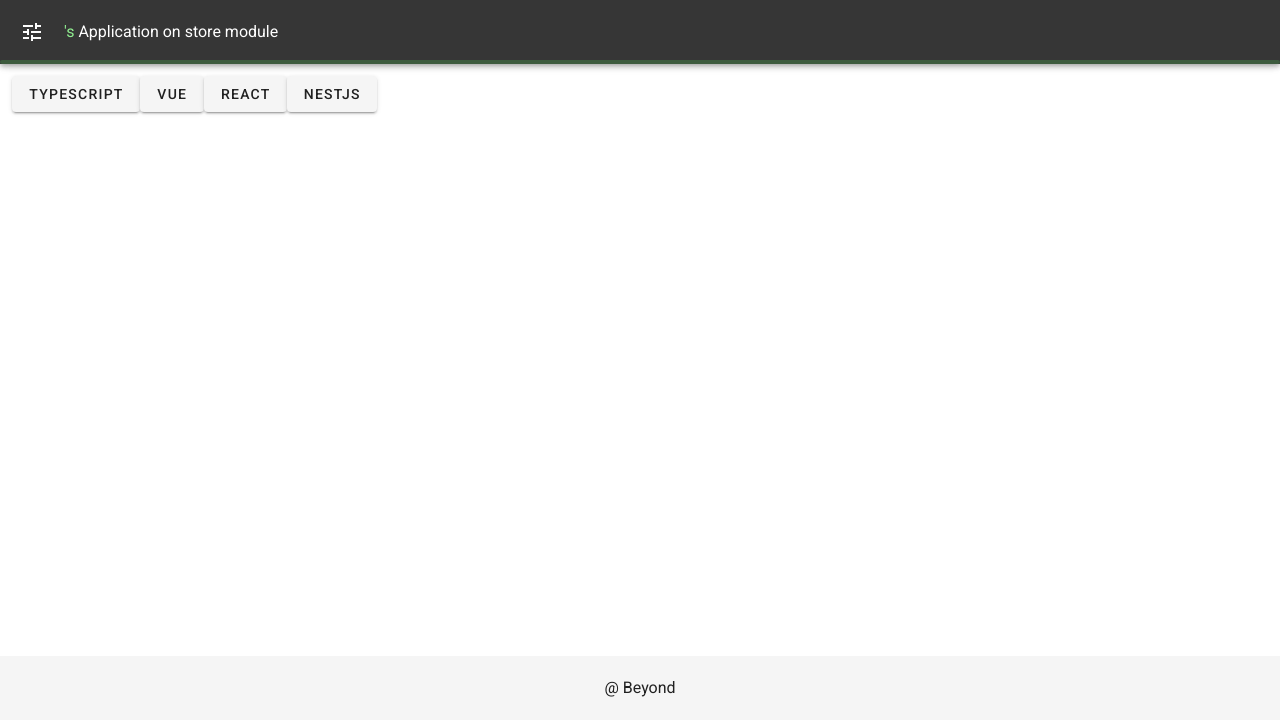
Test: commands-and › command as test
Click the button "TypeScript" at (76,94), box [12, 76, 140, 112]
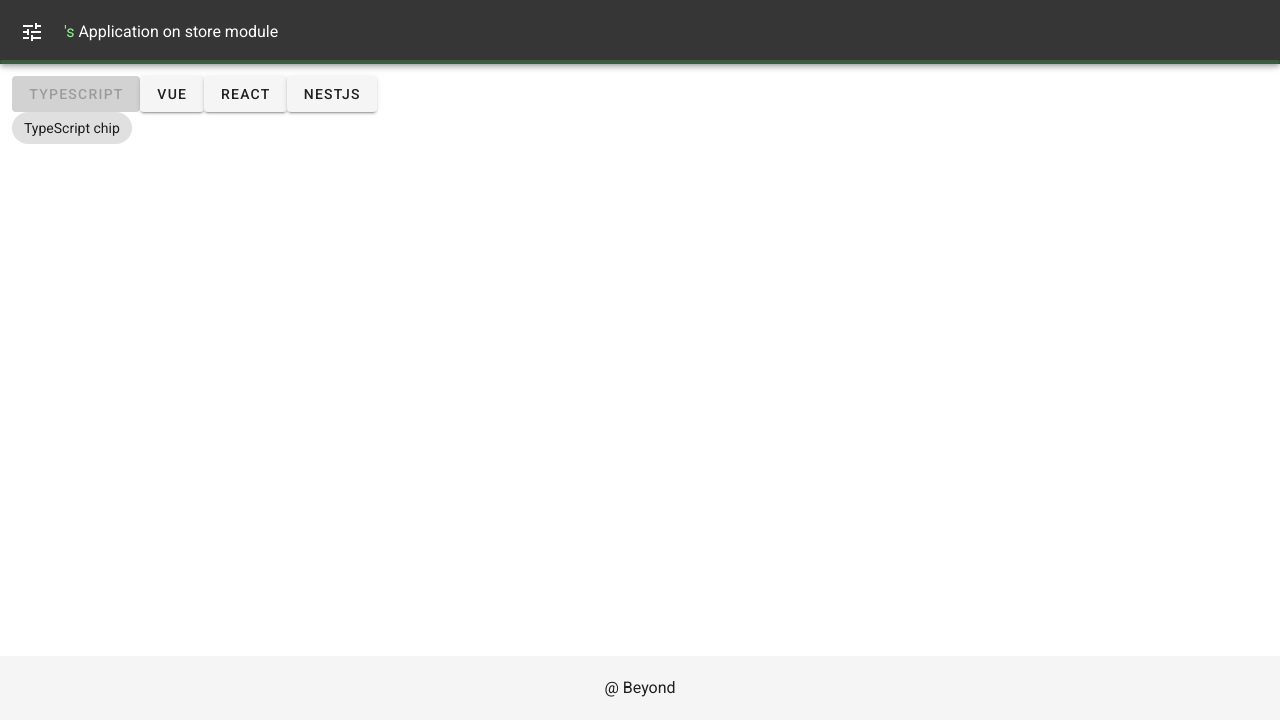
expect the button "TypeScript" is disabled: met, box [12, 76, 140, 112]
Click the button "NestJS" at (332,94), box [287, 76, 377, 112]
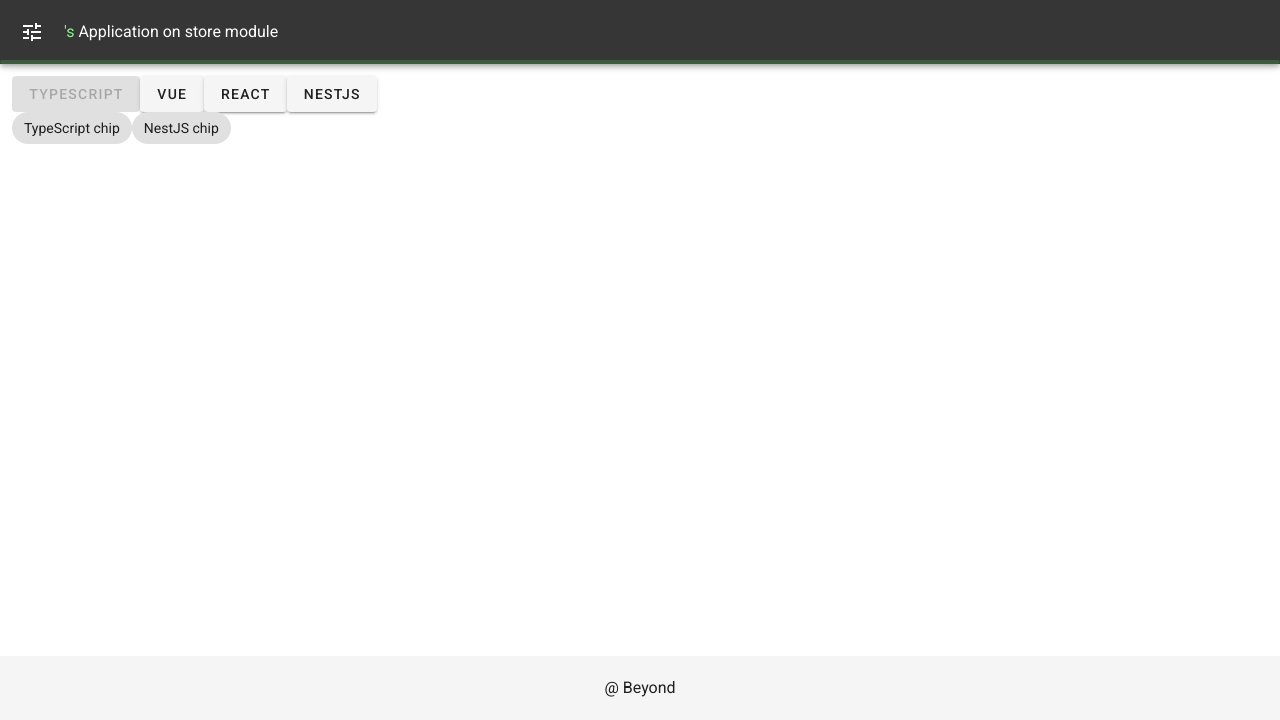
expect the text "TypeScript chip" is shown: met, box [24, 120, 120, 136]
expect the text "NestJS chip" is shown: met, box [144, 120, 219, 136]
